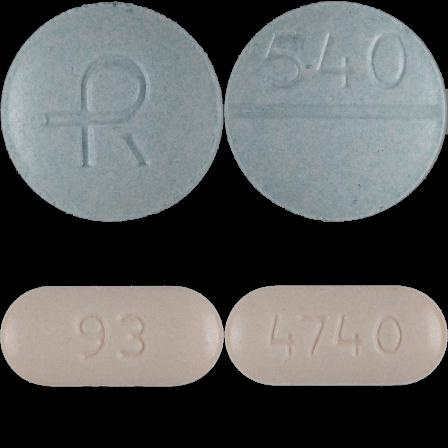76237-130: (0, 0, 224, 224)
